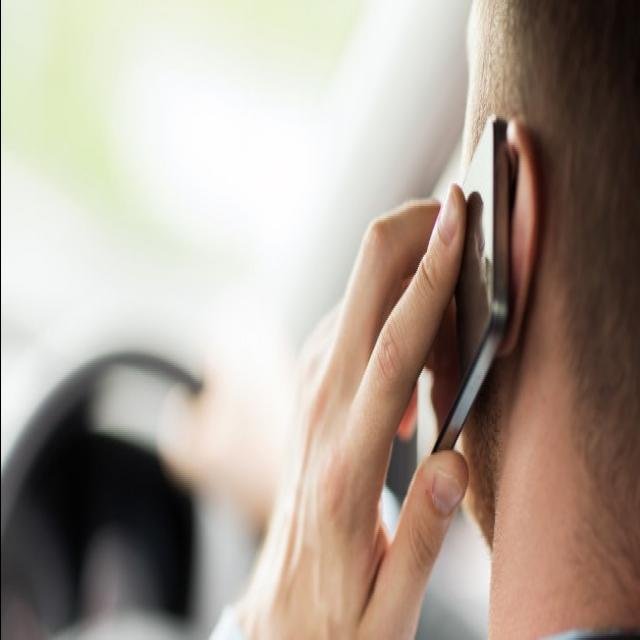phone: (273, 94, 539, 554)
